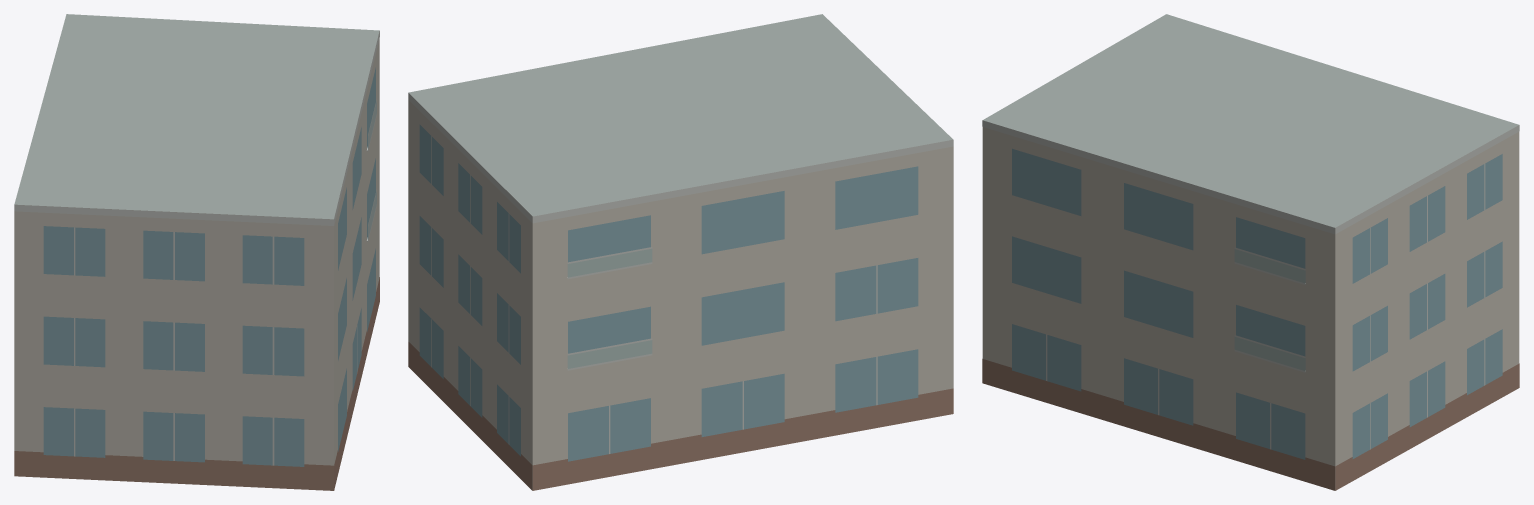
File: survey-upis-32840054.glb
3 renders of one model, left to right at view 1: azimuth 30°, elevation 25°; view 2: azimuth 150°, elevation 25°; view 3: azimuth 270°, elevation 25°, orthographic. The views are drawn at different scales.
Parts seen in each view (by area): view 1: survey-upis-32840054.tmp; view 2: survey-upis-32840054.tmp; view 3: survey-upis-32840054.tmp.
Boxes of the visible parts, x1=… form: survey-upis-32840054.tmp: x1=14, y1=14, x2=379, y2=490; survey-upis-32840054.tmp: x1=408, y1=14, x2=953, y2=490; survey-upis-32840054.tmp: x1=982, y1=14, x2=1519, y2=490.
Size of the model in its own units: 17.1 by 9.8 by 18.14.
